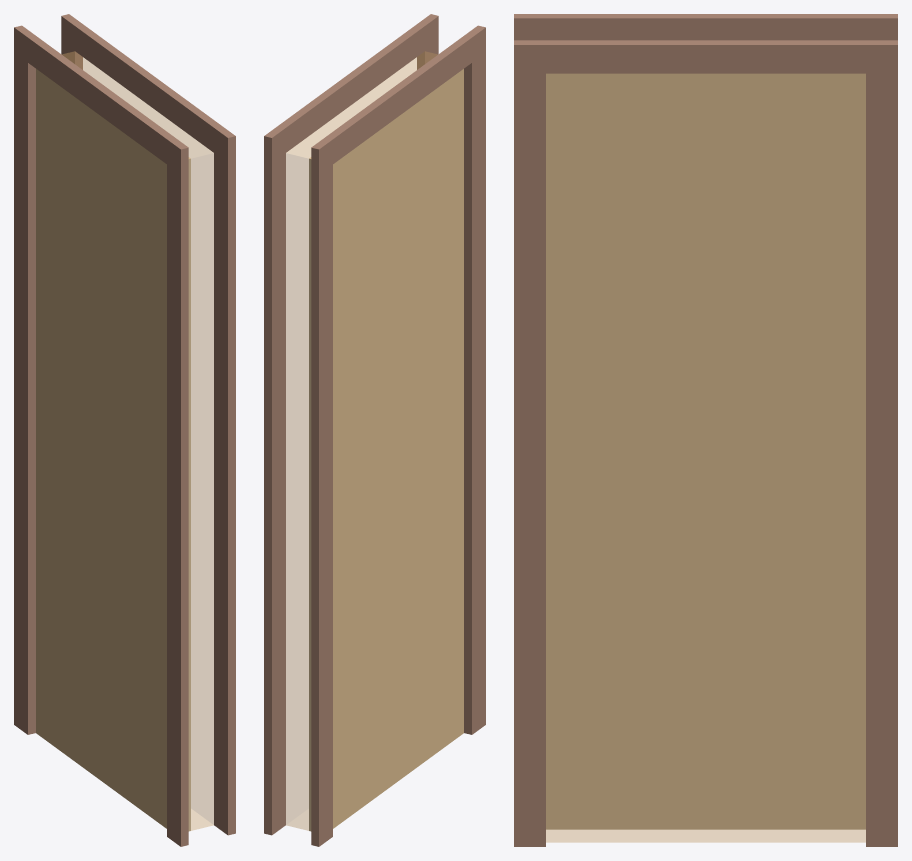
Rendered from door-0762-x-2032mm.glb.
3 renders of one model, left to right at view 1: azimuth 30°, elevation 25°; view 2: azimuth 150°, elevation 25°; view 3: azimuth 270°, elevation 25°, orthographic. The views are drawn at different scales.
Parts seen in each view (by area): view 1: 1hOSvn6df7F8_7GcBWlS8Z, 1xS3BCk291UvhgP2dvNowu; view 2: 1hOSvn6df7F8_7GcBWlS8Z, 1xS3BCk291UvhgP2dvNowu; view 3: 1hOSvn6df7F8_7GcBWlS8Z, 1xS3BCk291UvhgP2dvNowu.
Part boxes in pixels (x1,y1,x2,y2): 1hOSvn6df7F8_7GcBWlS8Z: (14, 14, 235, 846); 1xS3BCk291UvhgP2dvNowu: (36, 51, 213, 830); 1hOSvn6df7F8_7GcBWlS8Z: (264, 14, 485, 846); 1xS3BCk291UvhgP2dvNowu: (286, 51, 463, 830); 1hOSvn6df7F8_7GcBWlS8Z: (514, 14, 897, 846); 1xS3BCk291UvhgP2dvNowu: (546, 74, 865, 842).
Bounding box in the file's own units: 0.174 × 2.11 × 0.914.
